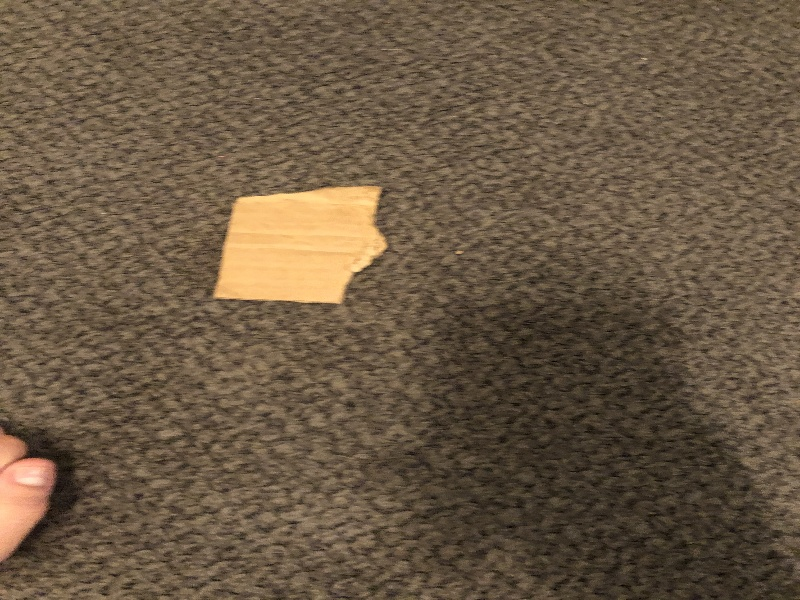cardboard: (210, 179, 398, 316)
